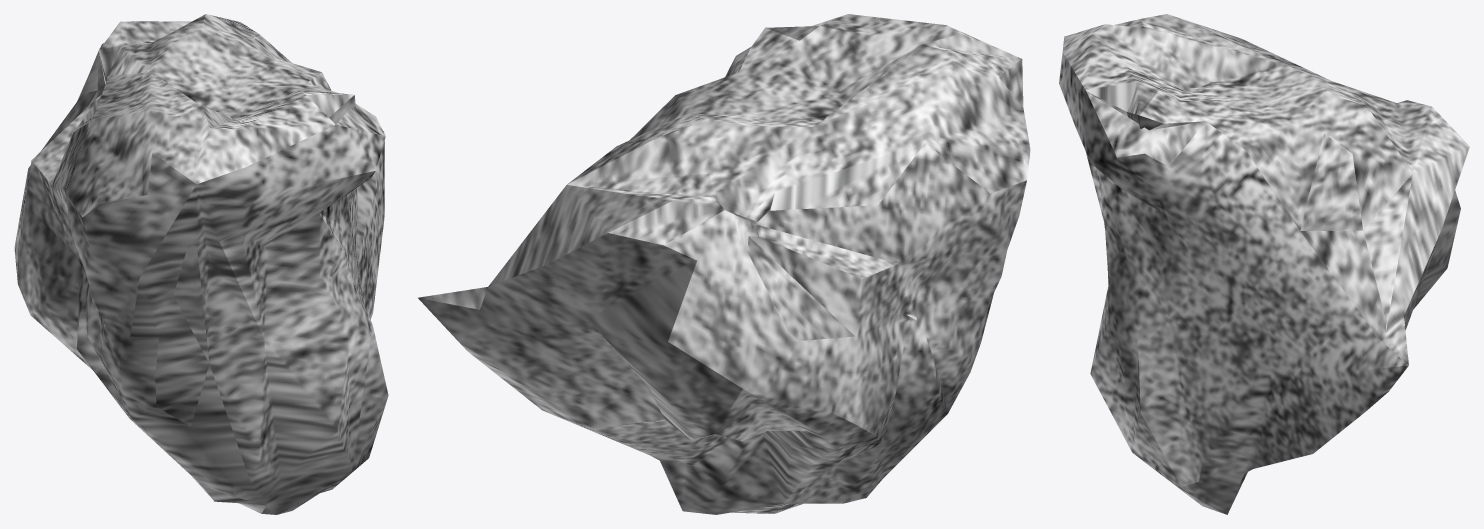
The model's file is Rock_Asset_06.fbx.
The picture shows the model from 3 angles, left to right: view 1: azimuth 30°, elevation 25°; view 2: azimuth 150°, elevation 25°; view 3: azimuth 270°, elevation 25°; orthographic projection. The views are drawn at different scales.
Visible parts, largest first — view 1: Rock_Asset; view 2: Rock_Asset; view 3: Rock_Asset.
Boxes of the visible parts, left/top/right/bottom form: Rock_Asset: left=14, top=14, right=388, bottom=514; Rock_Asset: left=418, top=14, right=1030, bottom=514; Rock_Asset: left=1059, top=14, right=1469, bottom=514.
Bounding box in the file's own units: 1.85 × 1.82 × 1.66.
Materials: 1 (1 with a texture image).
